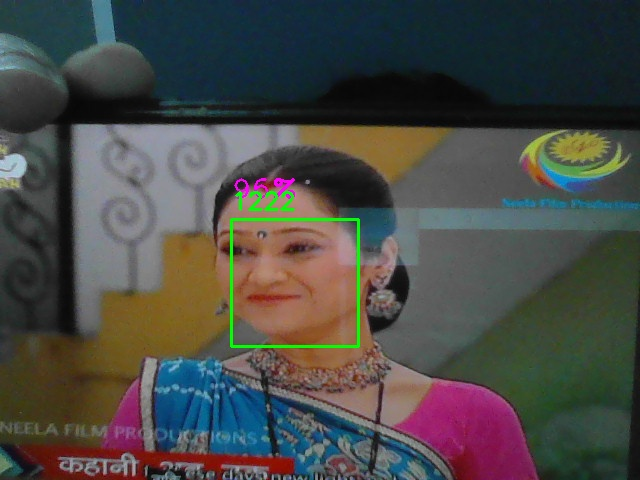fake: (231, 219, 359, 347)
